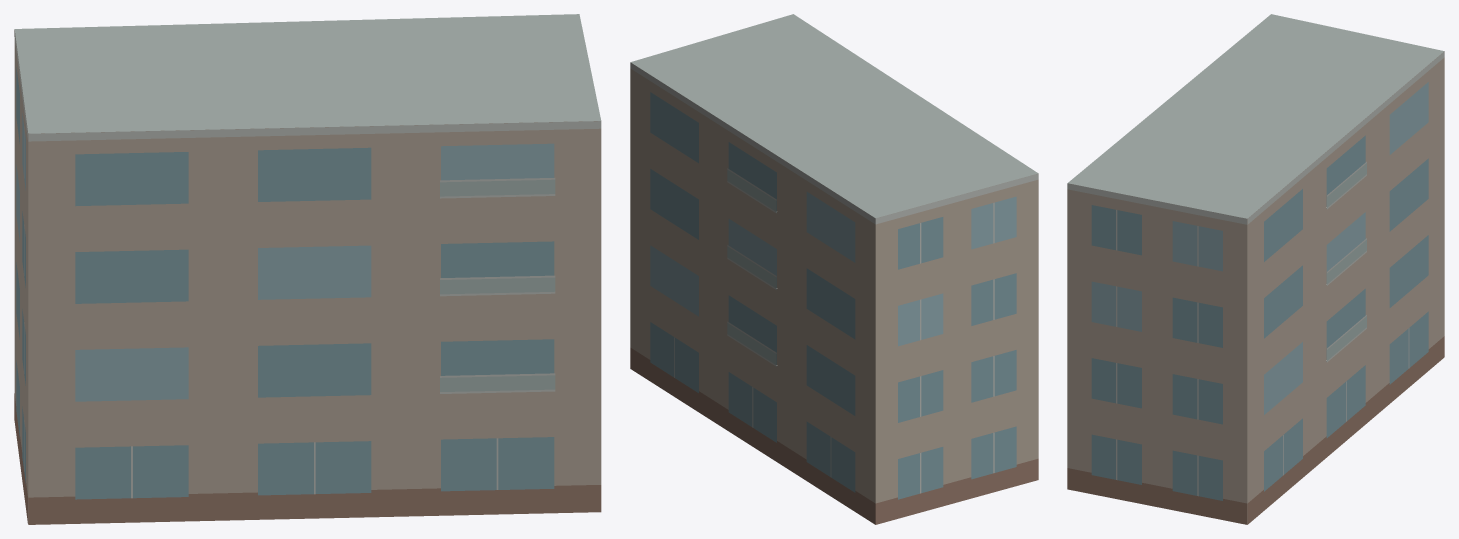
Rendered from survey-upis-32687217.glb.
3 renders of one model, left to right at view 1: azimuth 30°, elevation 25°; view 2: azimuth 150°, elevation 25°; view 3: azimuth 270°, elevation 25°, orthographic. The views are drawn at different scales.
Visible parts, largest first — view 1: survey-upis-32687217.tmp; view 2: survey-upis-32687217.tmp; view 3: survey-upis-32687217.tmp.
Boxes of the visible parts, x1,y1,x2,y2 form: survey-upis-32687217.tmp: (14,14,601,524); survey-upis-32687217.tmp: (630,14,1038,524); survey-upis-32687217.tmp: (1067,14,1444,524).
Size of the model in its own units: 17.51 by 12.2 by 13.63.
